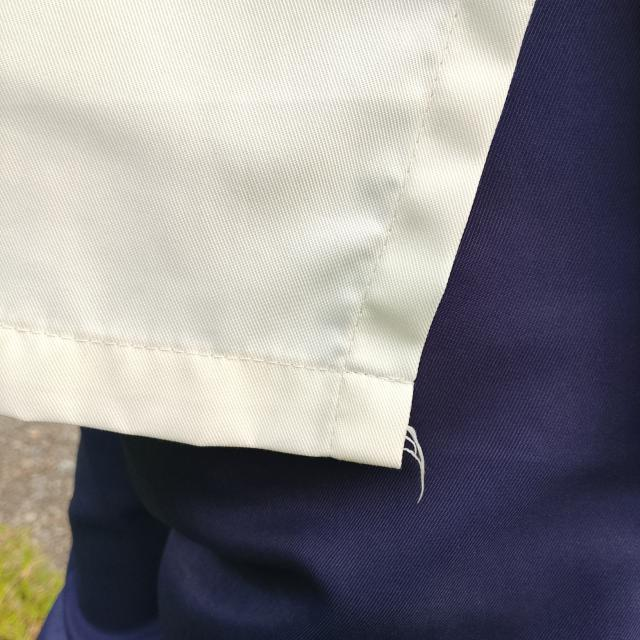education_male_uniform: (7, 4, 640, 516)
